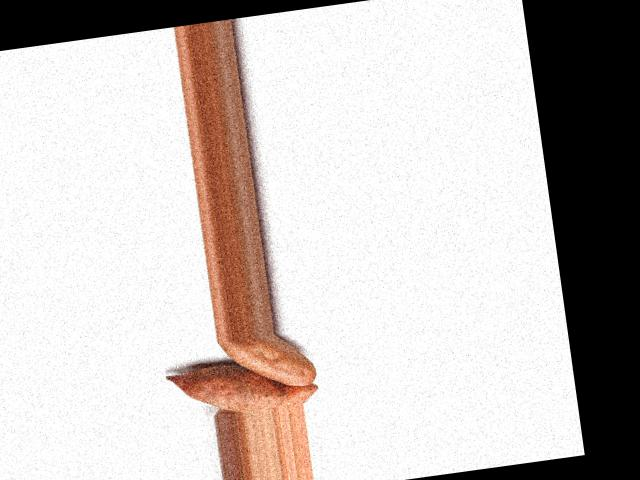sweet_potato: (211, 329, 317, 396)
